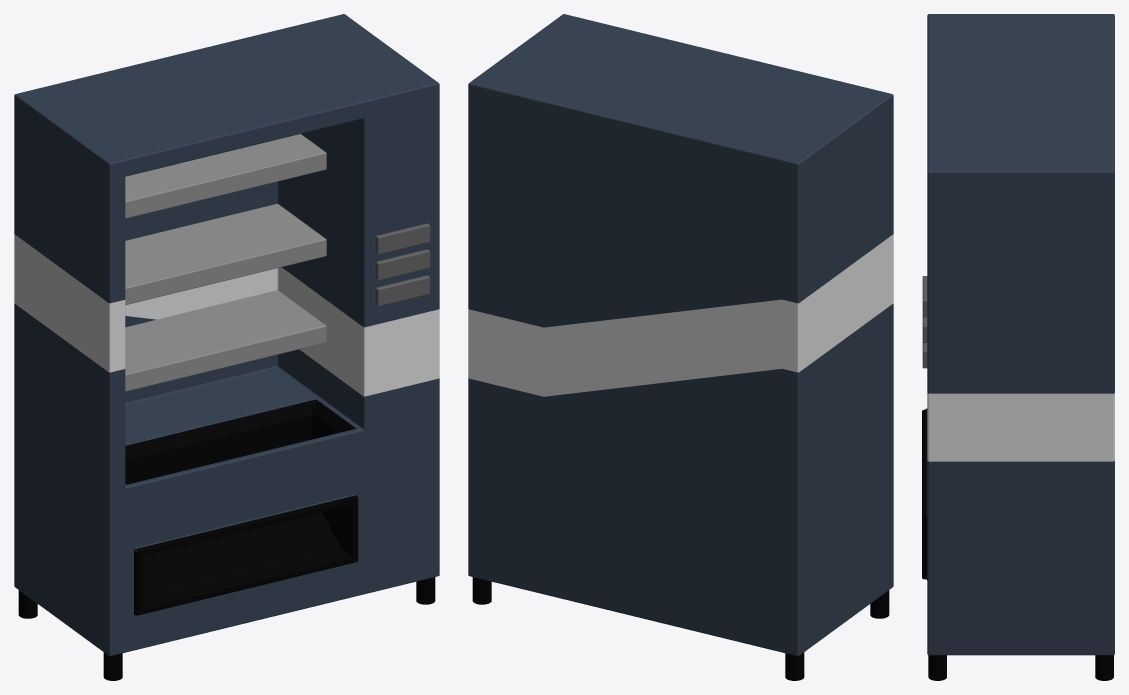
Rendered from VendingMachine.fbx.
The picture shows the model from 3 angles, left to right: view 1: azimuth 30°, elevation 25°; view 2: azimuth 150°, elevation 25°; view 3: azimuth 270°, elevation 25°; orthographic projection.
Visible parts, largest first — view 1: machine, shelves, feet, button3, button2, button1; view 2: machine, feet; view 3: machine, feet.
Boxes of the visible parts, x1,y1,x2,y2 form: machine: (14, 14, 439, 656); shelves: (125, 134, 326, 391); feet: (18, 577, 435, 680); button3: (375, 275, 430, 306); button2: (375, 249, 430, 280); button1: (375, 223, 430, 254); machine: (468, 14, 893, 656); feet: (472, 577, 889, 680); machine: (922, 14, 1114, 655); feet: (928, 655, 1113, 680).
Bounding box in the file's own units: 400 × 600 × 206.
